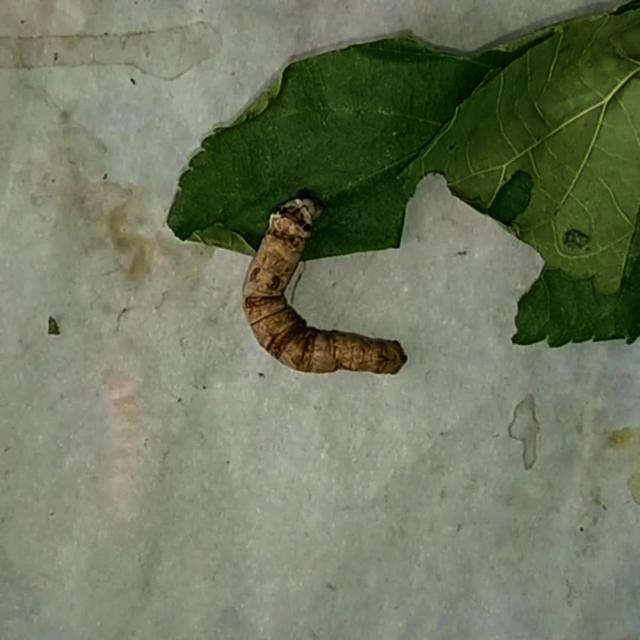Grasserie: (202, 157, 421, 404)
